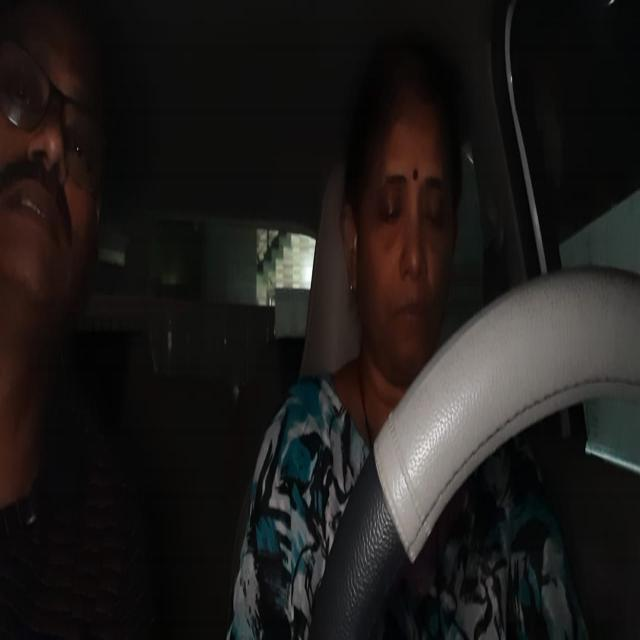drowsy: (351, 94, 451, 350)
person: (2, 8, 99, 310)
